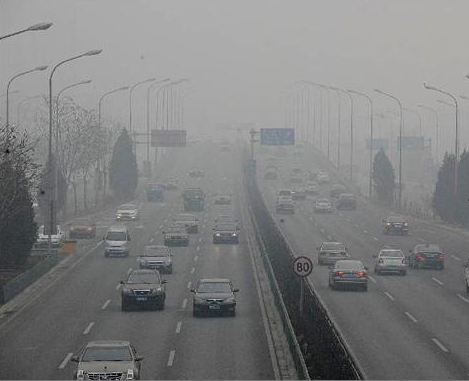car: (69, 339, 146, 379), (119, 268, 169, 310), (190, 277, 240, 316), (326, 260, 368, 290), (136, 245, 175, 274), (408, 244, 445, 270), (372, 249, 408, 275), (102, 226, 131, 257), (315, 241, 349, 267), (33, 224, 66, 247), (211, 222, 240, 245), (67, 219, 97, 239), (381, 215, 409, 235), (162, 227, 189, 246), (175, 214, 199, 234), (115, 202, 140, 221), (211, 188, 233, 206), (335, 193, 358, 210), (312, 197, 332, 214), (274, 188, 292, 205), (304, 180, 319, 194)
